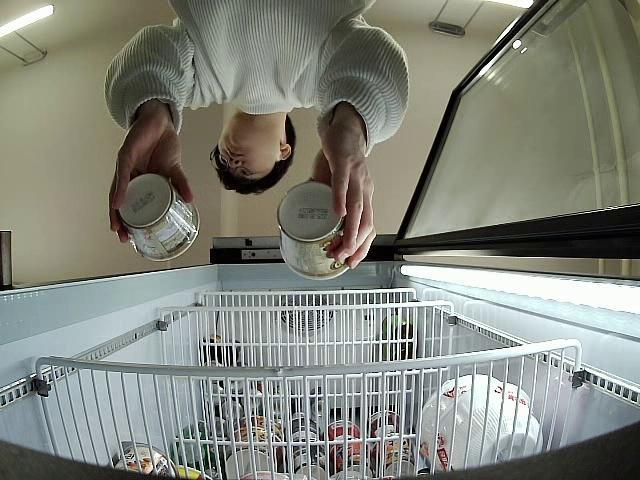04_chapagetti_S: (276, 181, 352, 280), (118, 174, 199, 262)
